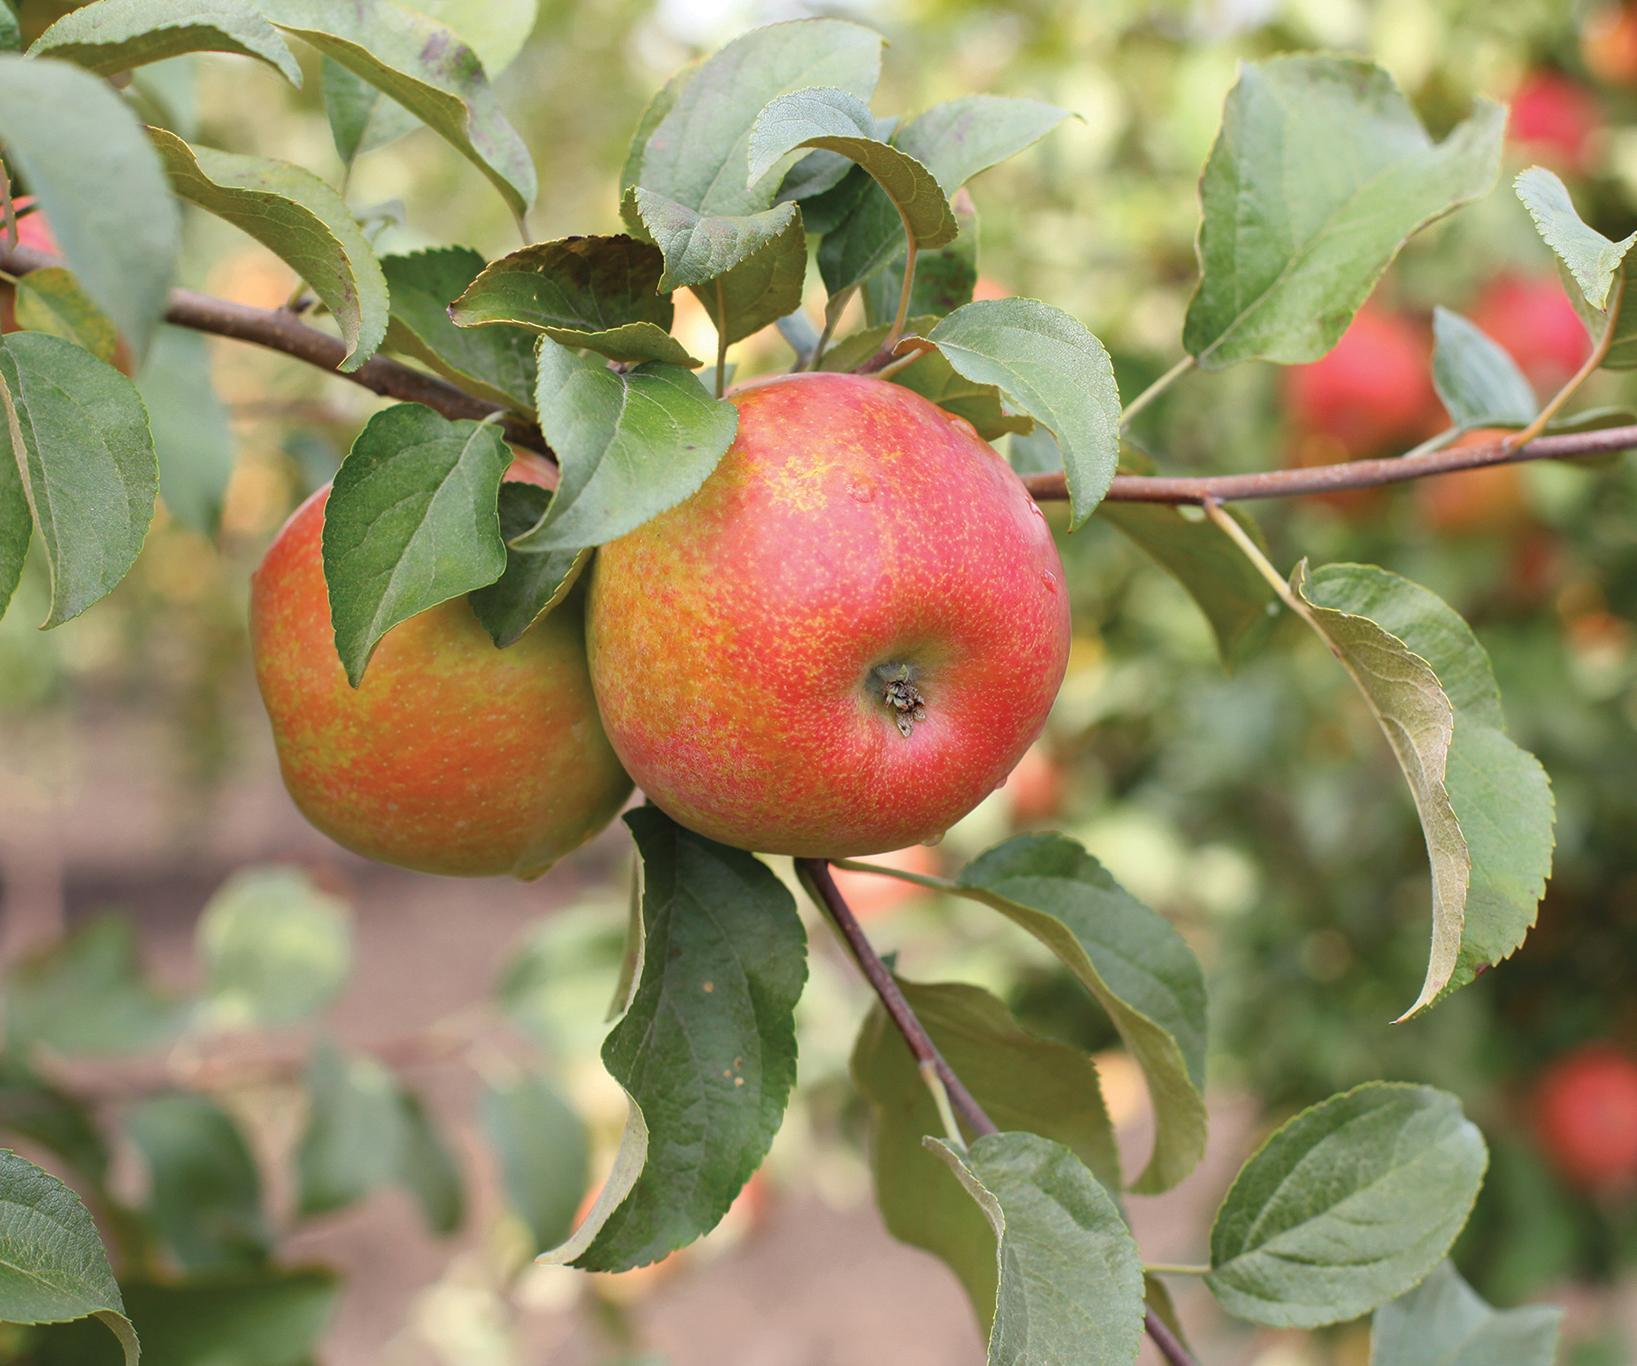apple: (566, 378, 1067, 870), (250, 434, 631, 885)
